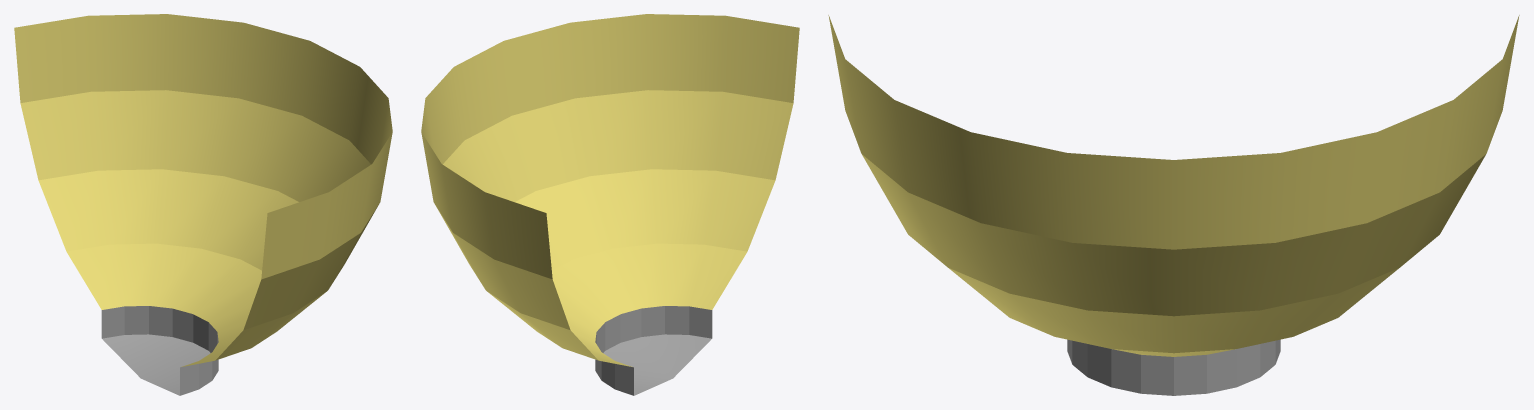
File: SconceLamp.fbx
3 renders of one model, left to right at view 1: azimuth 30°, elevation 25°; view 2: azimuth 150°, elevation 25°; view 3: azimuth 270°, elevation 25°, orthographic. The views are drawn at different scales.
Visible parts, largest first — view 1: pSphere1; view 2: pSphere1; view 3: pSphere1.
Part boxes in pixels (box(x1,y1,x2,y2)): pSphere1: box(14, 14, 392, 395); pSphere1: box(421, 14, 799, 395); pSphere1: box(828, 15, 1519, 395).
Size of the model in its own units: 10 by 11.24 by 20.
